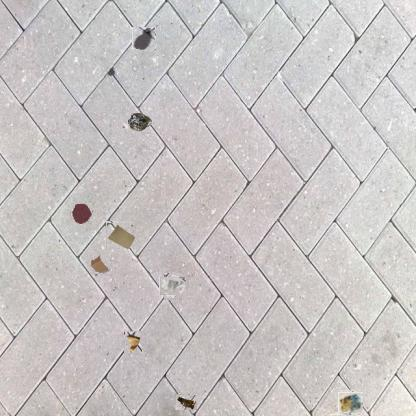dirty: (106, 222, 136, 250), (126, 110, 154, 134), (339, 391, 362, 414), (162, 275, 184, 298), (90, 253, 110, 273), (124, 331, 142, 353), (175, 394, 197, 410)
liquid: (132, 27, 156, 50), (70, 203, 92, 225)
